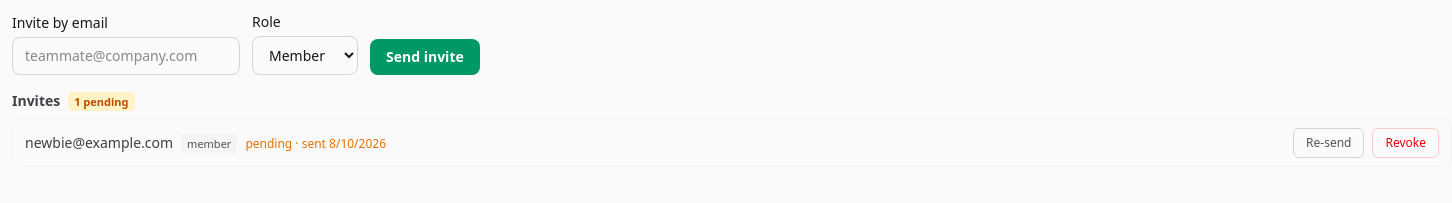
TeamInvites › re-sends a pending invite with a fresh link
Check: the text "newbie@example.com" is shown, box [25, 133, 173, 152]
Click the button "Re-send": (1329, 143) [1293, 128, 1364, 158]
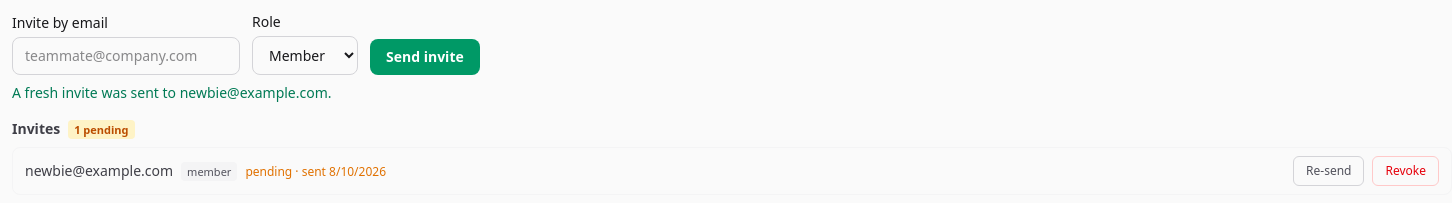
Check: the text "A fresh invite was sent to newbie@example.com." is shown, box [12, 83, 332, 102]
